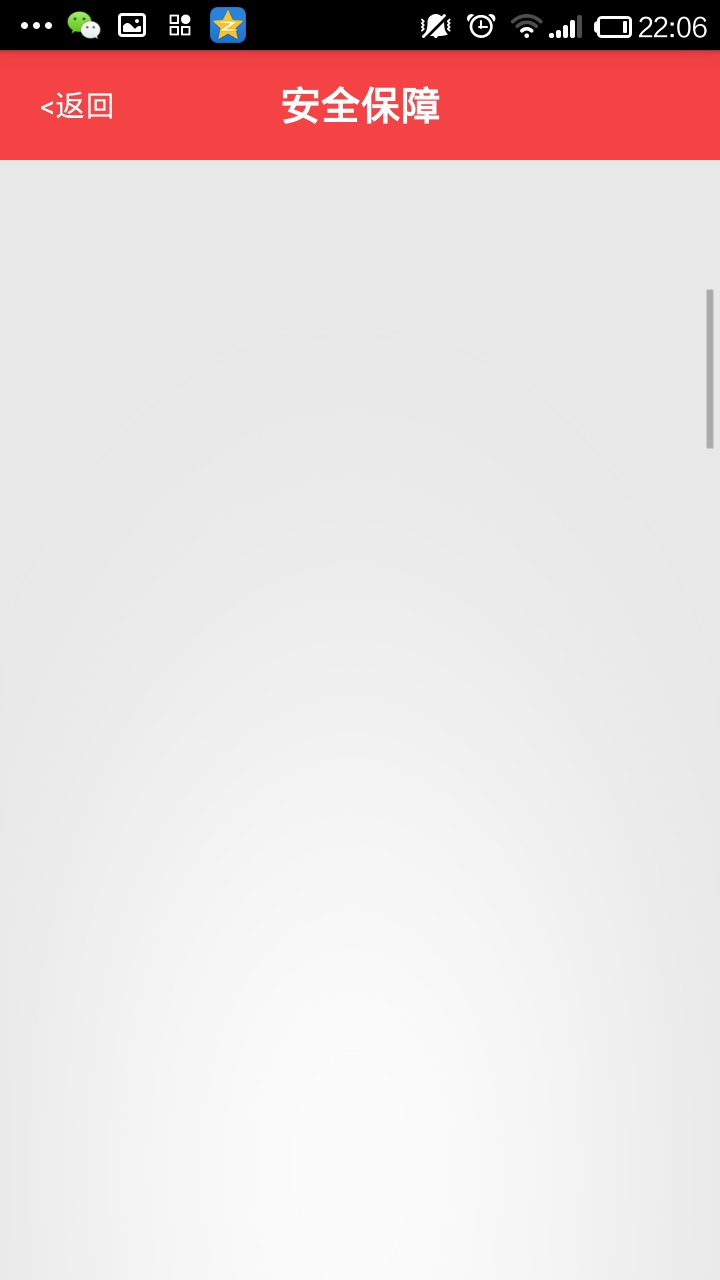button: (35, 71, 131, 131)
